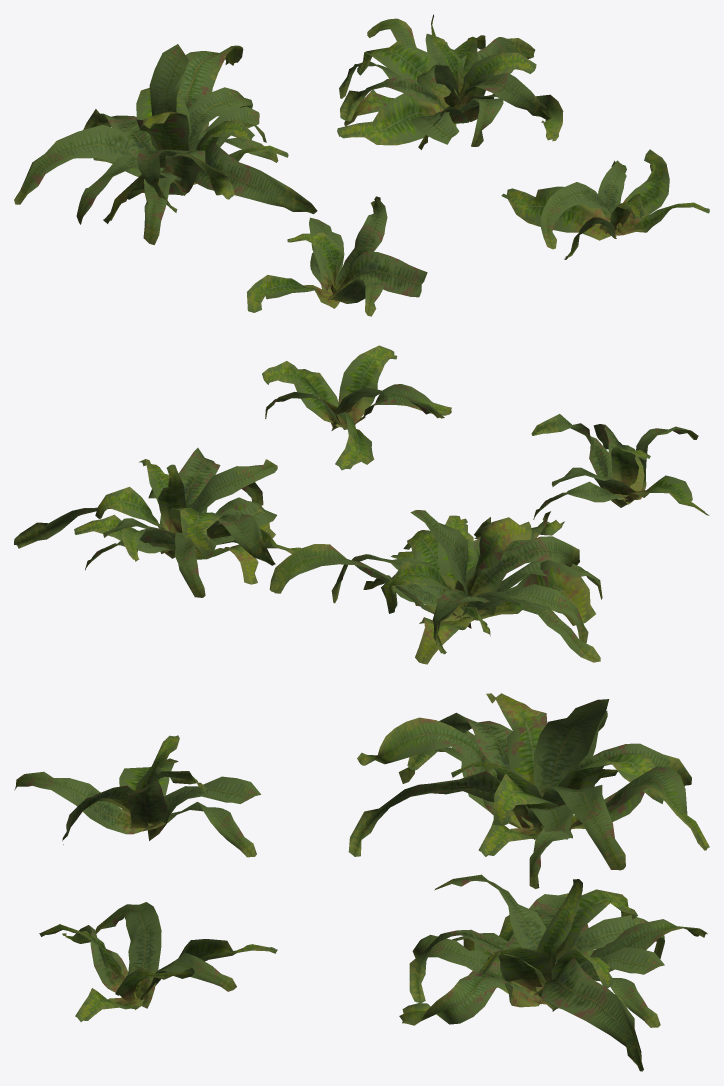
Rendered from fern_02.glb.
The picture shows the model from 3 angles, top to bottom: view 1: azimuth 30°, elevation 25°; view 2: azimuth 150°, elevation 25°; view 3: azimuth 270°, elevation 25°; orthographic projection. The views are drawn at different scales.
Visible parts, largest first — view 1: fern_02_b, fern_02_c, fern_02_d, fern_02_a; view 2: fern_02_b, fern_02_c, fern_02_d, fern_02_a; view 3: fern_02_b, fern_02_c, fern_02_a, fern_02_d.
Part boxes in pixels (x1,y1,x2,y2): fern_02_b: [14, 44, 317, 244]; fern_02_c: [337, 14, 563, 149]; fern_02_d: [501, 149, 709, 259]; fern_02_a: [247, 196, 427, 316]; fern_02_b: [269, 510, 602, 664]; fern_02_c: [14, 448, 300, 597]; fern_02_d: [262, 345, 451, 470]; fern_02_a: [531, 414, 709, 519]; fern_02_b: [348, 693, 709, 888]; fern_02_c: [399, 874, 707, 1071]; fern_02_a: [14, 735, 260, 857]; fern_02_d: [39, 902, 277, 1021].
Bounding box in the file's own units: 1.97 × 0.4261 × 1.72.
1 material, 1 textured.
